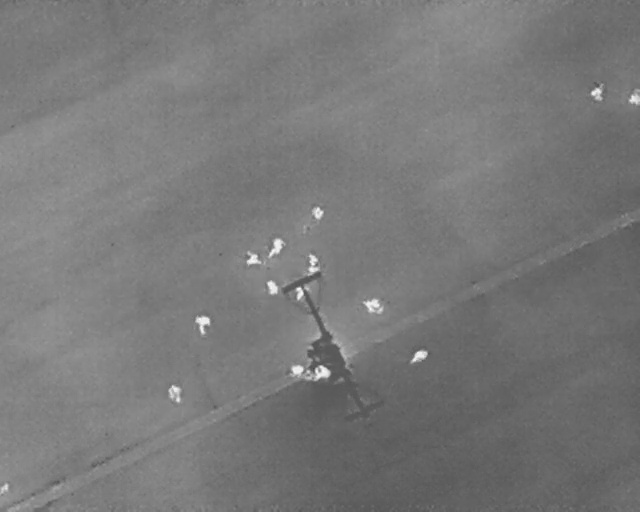Person: (262, 234, 288, 262), (406, 345, 431, 368), (166, 382, 185, 406), (362, 297, 385, 315), (262, 277, 281, 298), (193, 316, 211, 335), (308, 252, 321, 273), (244, 251, 261, 267), (315, 365, 331, 381), (590, 81, 603, 100), (311, 205, 325, 220), (628, 86, 640, 103), (296, 285, 308, 301), (289, 364, 303, 375)
